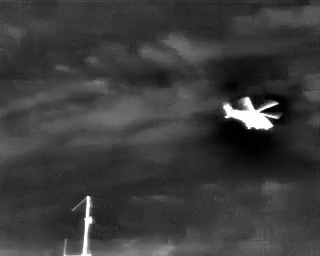HELICOPTER: (220, 91, 285, 137)
